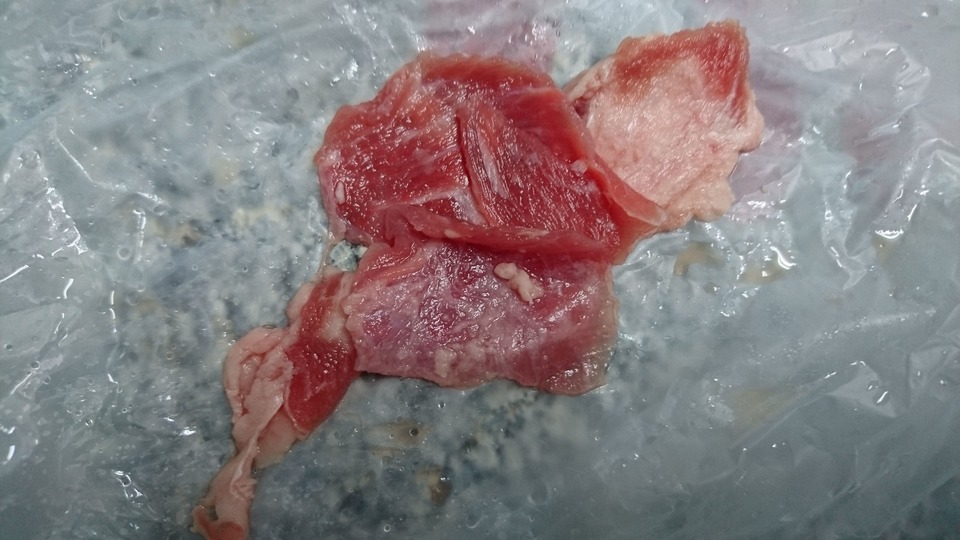restructured meat: (187, 15, 749, 523)
